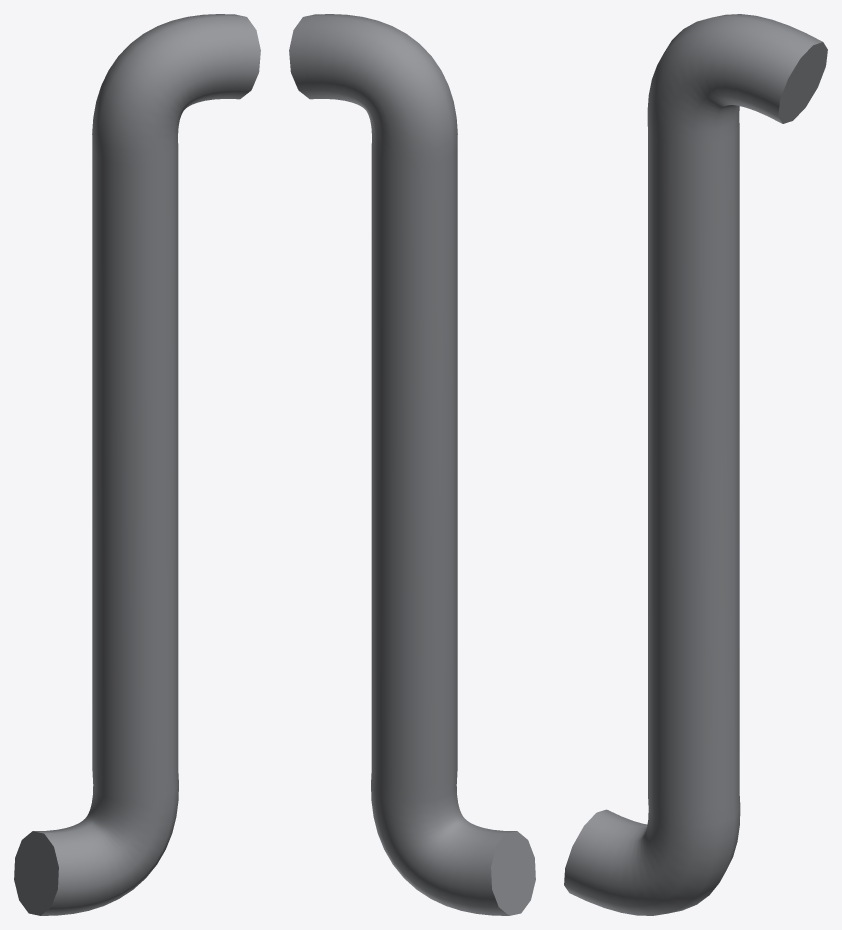
The model's file is m_pipe_thing.FBX.
3 views of the same model, side by side, from view 1: azimuth 30°, elevation 25°; view 2: azimuth 150°, elevation 25°; view 3: azimuth 330°, elevation 25° (orthographic). The views are drawn at different scales.
Parts seen in each view (by area): view 1: pipe; view 2: pipe; view 3: pipe.
Part boxes in pixels (box(x1,y1,x2,y2)): pipe: box(14, 14, 260, 915); pipe: box(289, 14, 535, 915); pipe: box(564, 14, 827, 915).
Size of the model in its own units: 16.22 by 61.03 by 5.52.
